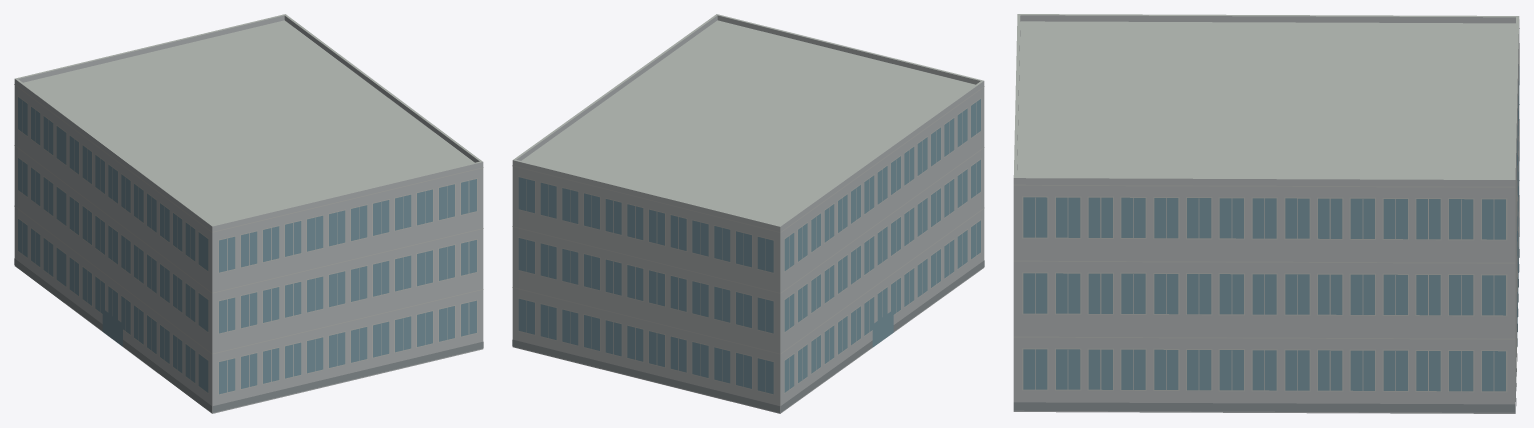
Rendered from public-bef90718-2a68-4e03-8218-0003c4e9e4b4.glb.
3 renders of one model, left to right at view 1: azimuth 30°, elevation 25°; view 2: azimuth 150°, elevation 25°; view 3: azimuth 270°, elevation 25°, orthographic. The views are drawn at different scales.
Visible parts, largest first — view 1: public-bef90718-2a68-4e03-8218-0003c4e9e4b4; view 2: public-bef90718-2a68-4e03-8218-0003c4e9e4b4; view 3: public-bef90718-2a68-4e03-8218-0003c4e9e4b4.
Boxes of the visible parts, x1,y1,x2,y2 form: public-bef90718-2a68-4e03-8218-0003c4e9e4b4: [14, 14, 483, 413]; public-bef90718-2a68-4e03-8218-0003c4e9e4b4: [512, 14, 984, 413]; public-bef90718-2a68-4e03-8218-0003c4e9e4b4: [1013, 14, 1519, 413].
Bounding box in the file's own units: 39.15 × 25 × 49.11.
